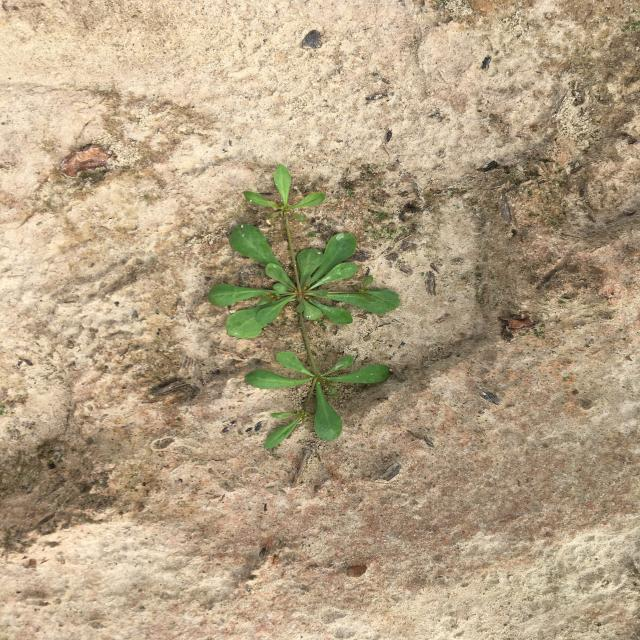Carpetweed: (208, 163, 400, 449)
